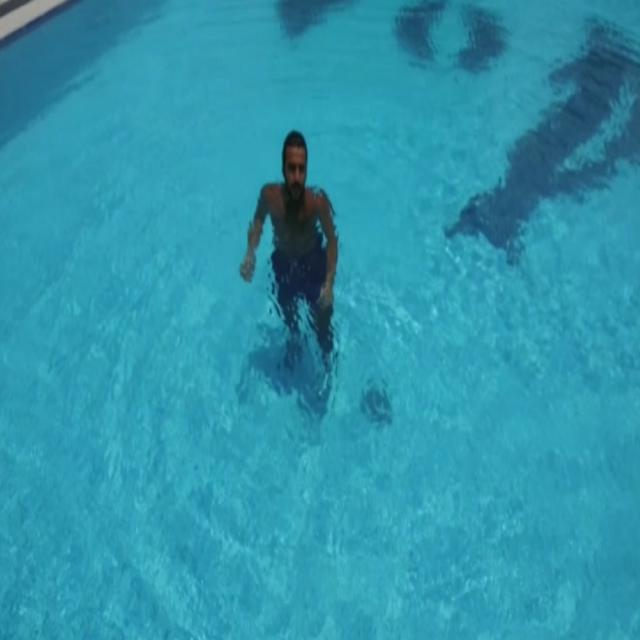Swimming: (241, 128, 339, 372)
